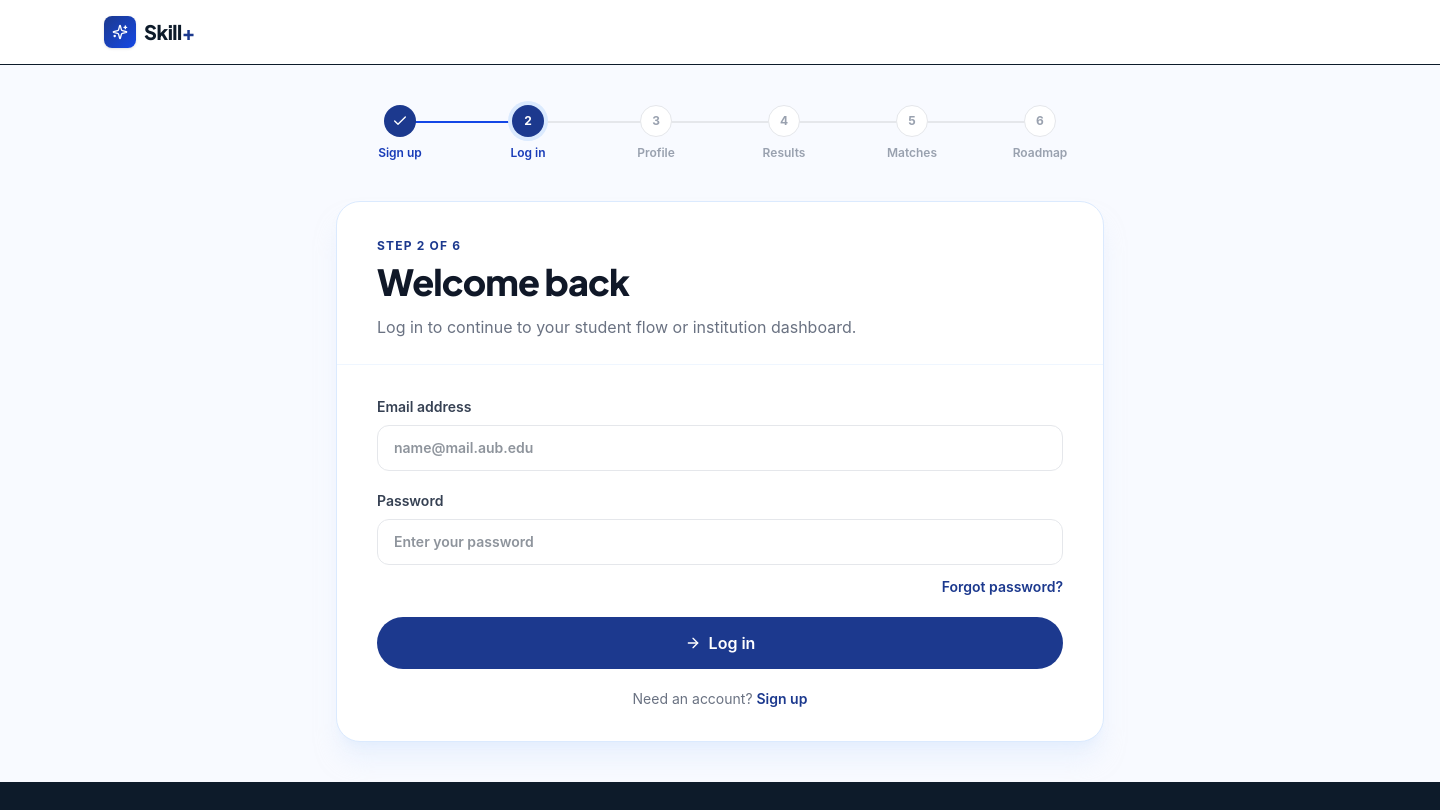
Scenario: Member 5 complete student flow › requests password reset instructions from the forgot-password page
The width and height of the screenshot is (1440, 810).
Click the link "Forgot password?" at (1002, 587), box [942,577,1063,597]
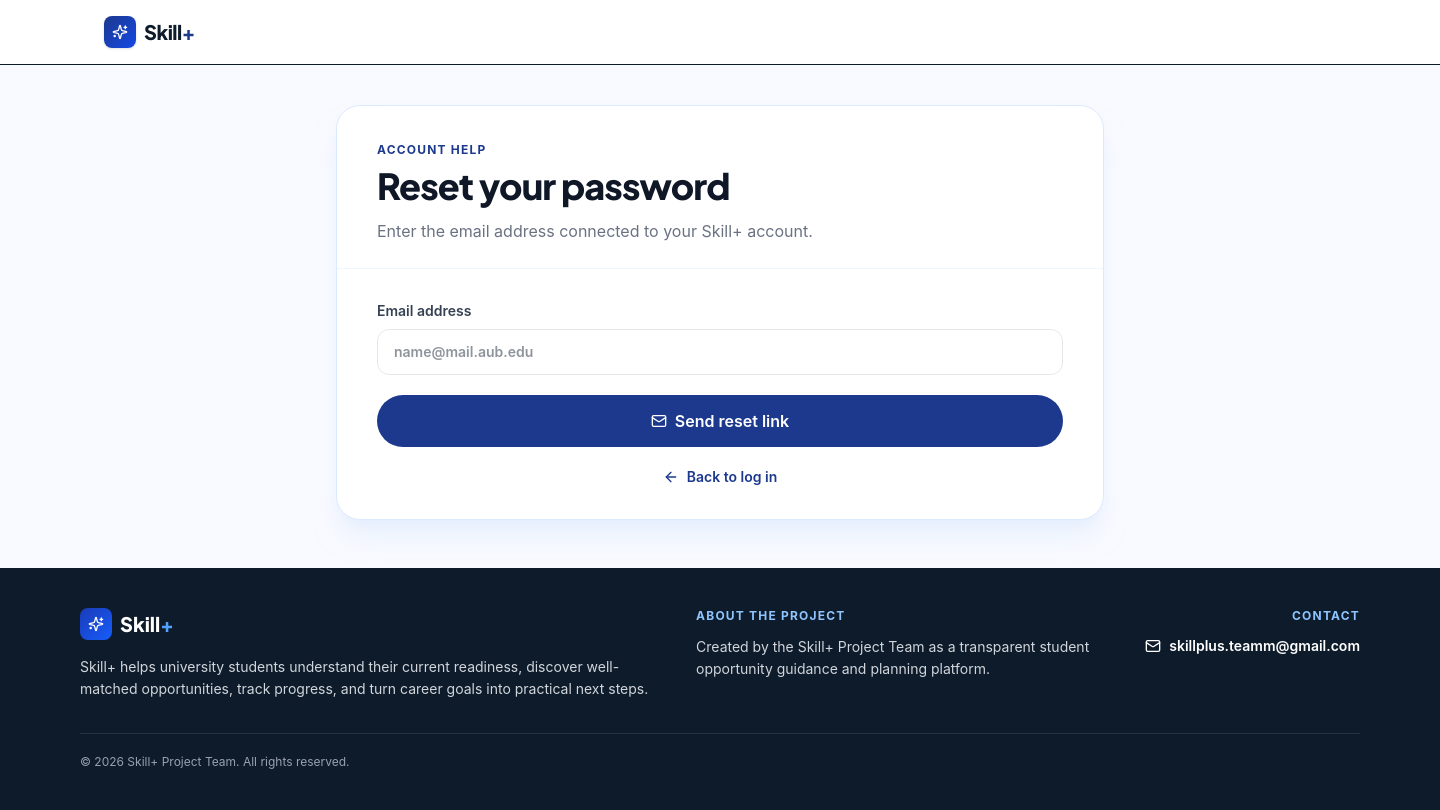
Check: the heading "Reset your password" is shown, box [377,163,730,208]
Type "alex.morgan@mail.aub.edu" into the field labelled "Email address" at (720, 352), box [377,329,1063,375]
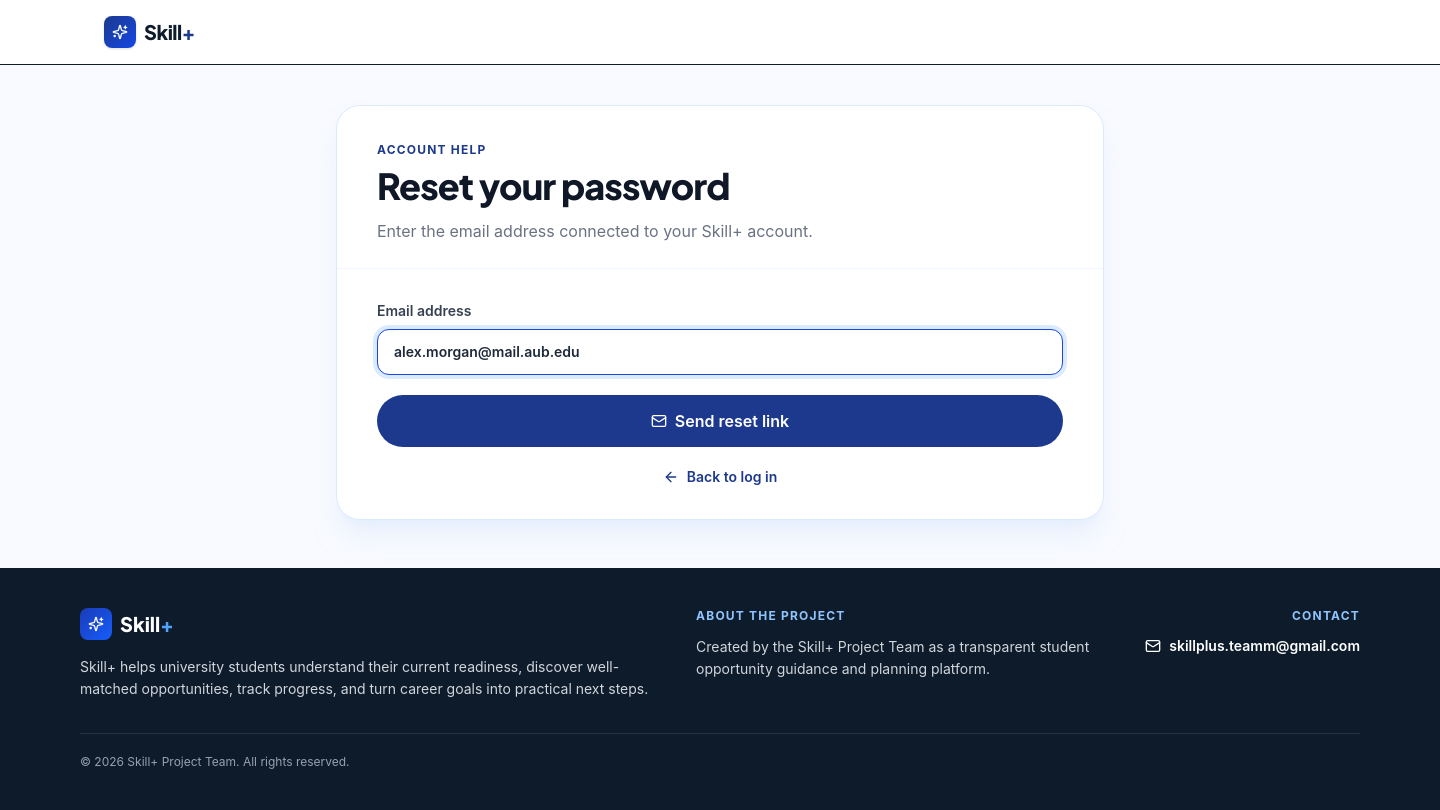
Click the button "Send reset link" at (720, 421), box [377,395,1063,447]
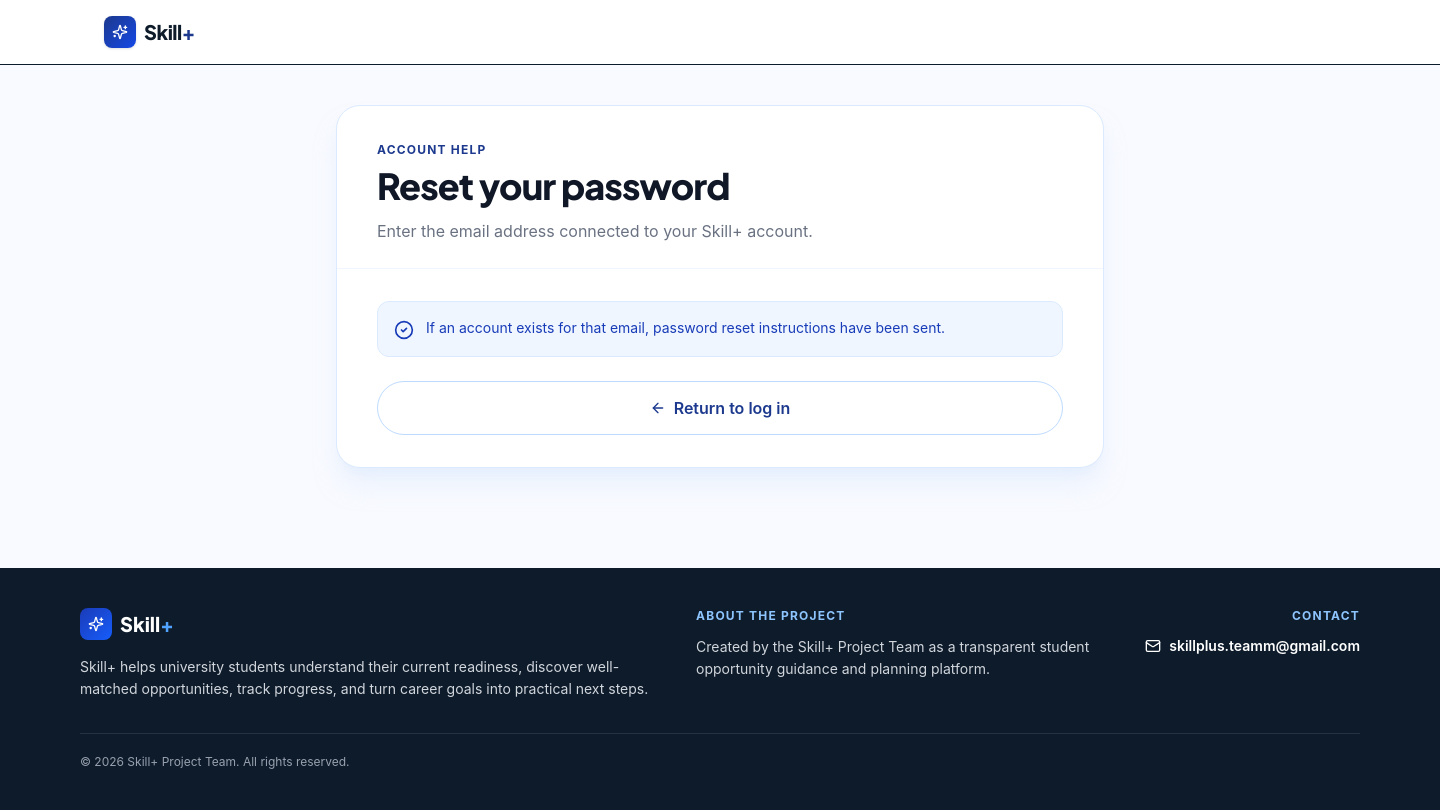
Check: the text "If an account exists for that email" is shown, box [426,319,945,336]
